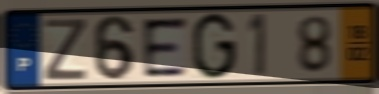1: (246, 11, 267, 80)
6: (92, 13, 138, 83)
8: (294, 14, 334, 75)
E: (140, 15, 190, 80)
G: (191, 11, 239, 83)
Z: (41, 17, 89, 82)
